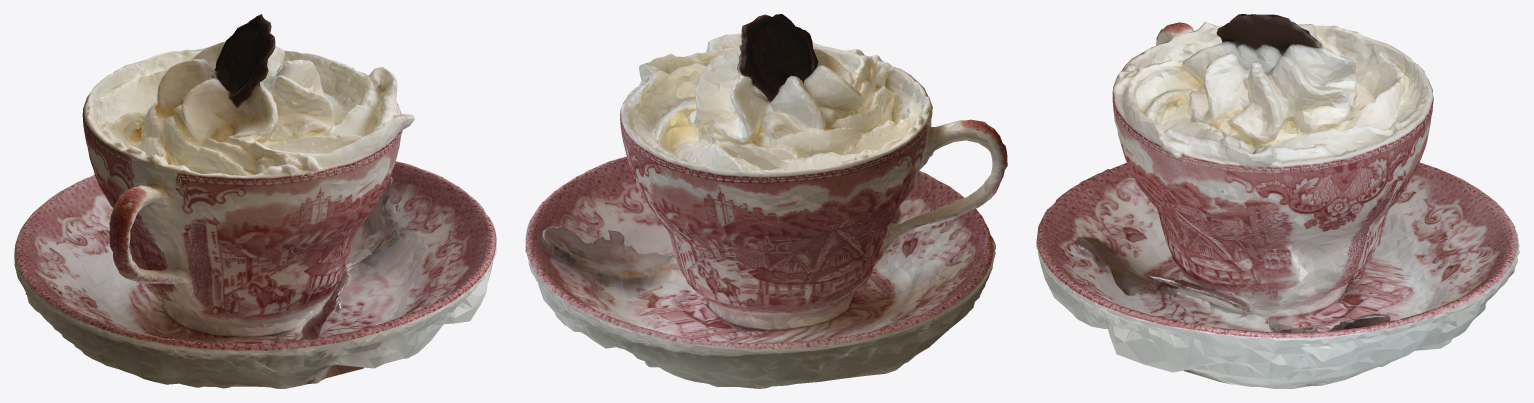
Rendered from cafe-vienes.glb.
3 renders of one model, left to right at view 1: azimuth 30°, elevation 25°; view 2: azimuth 150°, elevation 25°; view 3: azimuth 270°, elevation 25°, orthographic. The views are drawn at different scales.
Visible parts, largest first — view 1: Object_2; view 2: Object_2; view 3: Object_2.
Boxes of the visible parts, x1,y1,x2,y2 form: Object_2: [14, 14, 496, 388]; Object_2: [525, 14, 1007, 388]; Object_2: [1036, 14, 1519, 388].
Bounding box in the file's own units: 0.15 × 0.102 × 0.1493.
1 material, 1 textured.
